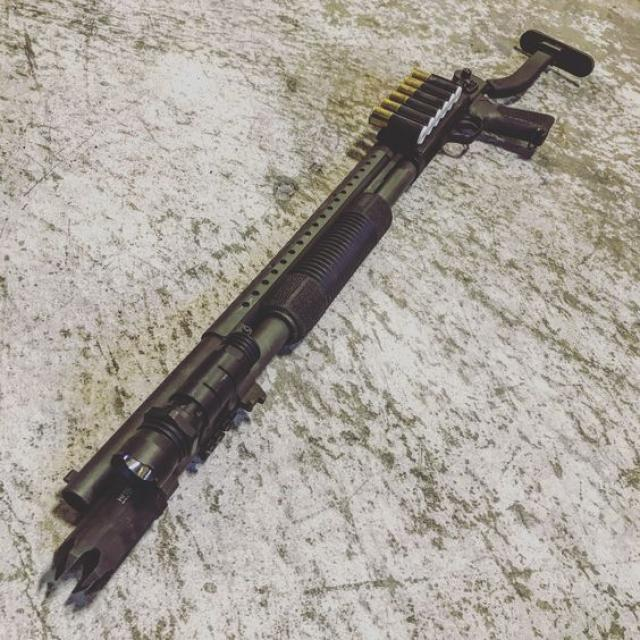shotgun: (28, 19, 590, 618)
